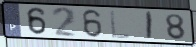2: (51, 7, 79, 39)
6: (81, 8, 104, 39), (25, 6, 48, 36)
8: (164, 13, 188, 41)
I: (145, 10, 154, 41)
L: (108, 10, 132, 40)
